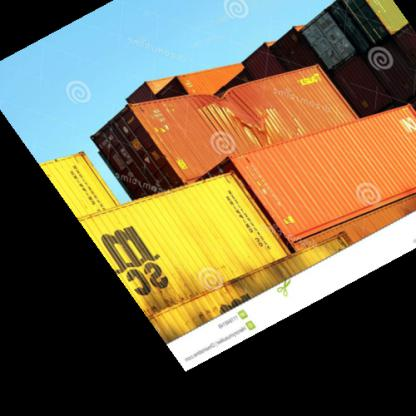Damage: (212, 86, 285, 136)
